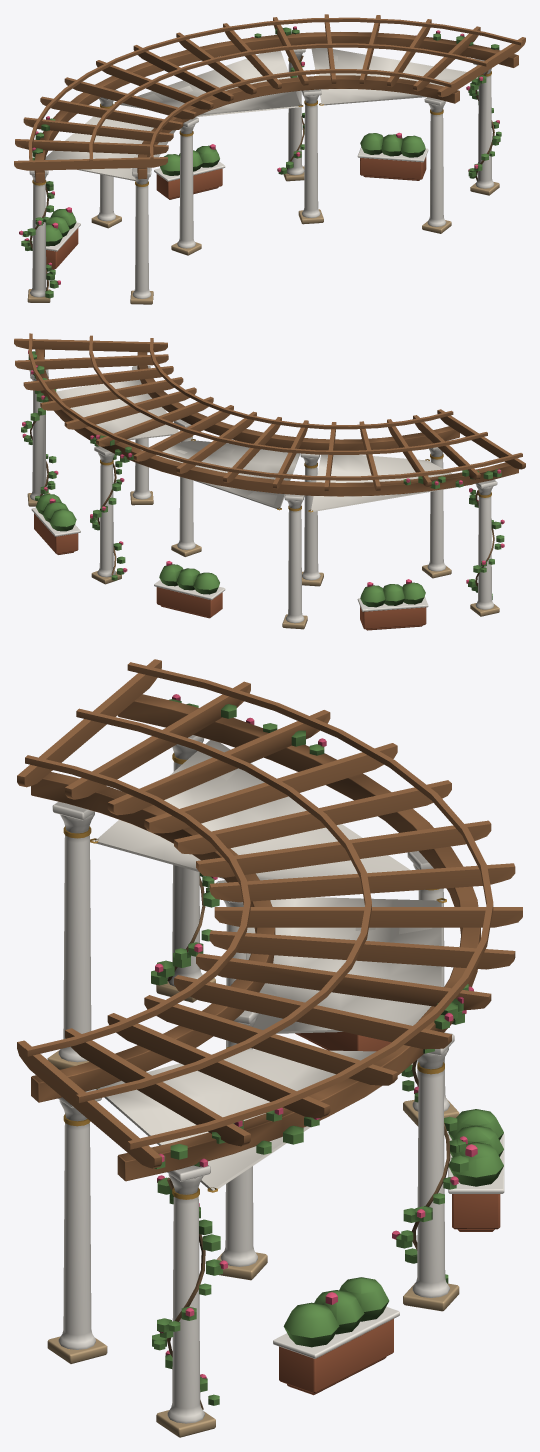
File: atelier_pergola.fbx
3 renders of one model, top to bottom at view 1: azimuth 30°, elevation 25°; view 2: azimuth 150°, elevation 25°; view 3: azimuth 270°, elevation 25°, orthographic. The views are drawn at different scales.
Parts seen in each view (by area): view 1: atelier_pergola; view 2: atelier_pergola; view 3: atelier_pergola.
Boxes of the visible parts, x1,y1,x2,y2 form: atelier_pergola: (14, 14, 525, 304); atelier_pergola: (14, 333, 525, 630); atelier_pergola: (17, 659, 522, 1437).
Bounding box in the file's own units: 12.66 × 3.61 × 5.42.
